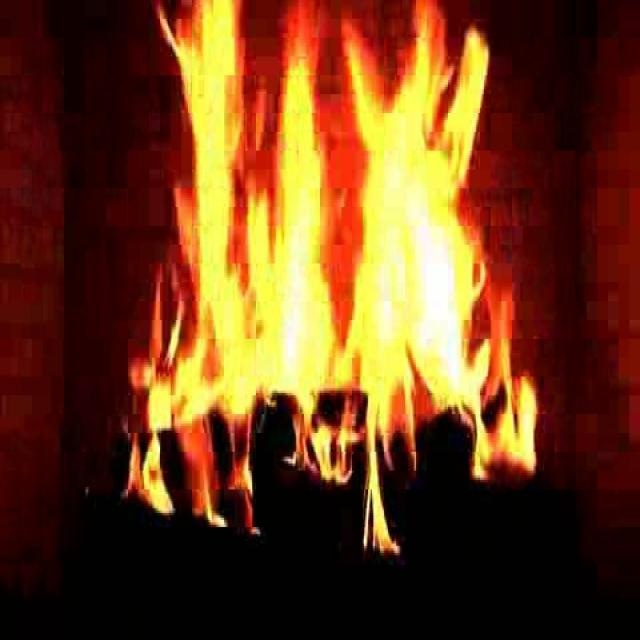Fire: (112, 0, 532, 558)
